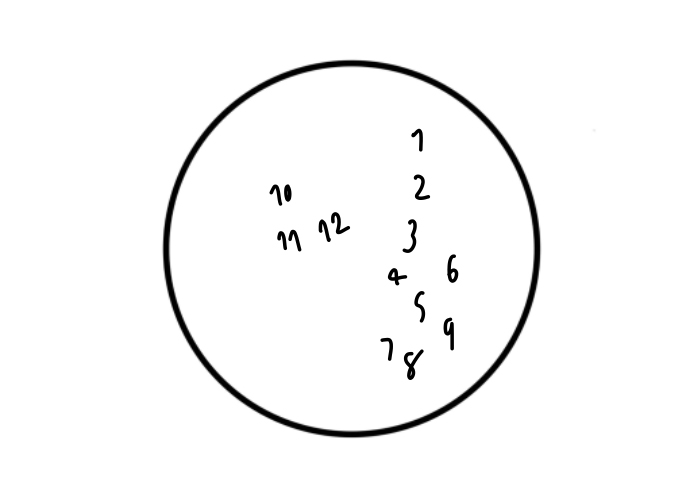eight: (403, 347, 425, 384)
eleven: (276, 229, 305, 252)
five: (413, 287, 428, 323)
four: (386, 263, 409, 289)
nine: (442, 314, 457, 351)
one: (410, 128, 425, 151)
seven: (379, 334, 397, 363)
six: (443, 251, 459, 287)
ten: (267, 183, 295, 209)
three: (402, 215, 419, 255)
twelve: (314, 207, 351, 242)
two: (413, 170, 433, 202)
